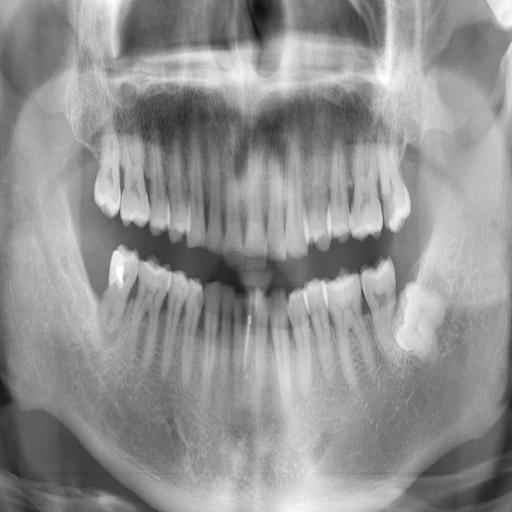Wisdom teeth: (395, 282, 445, 358)
